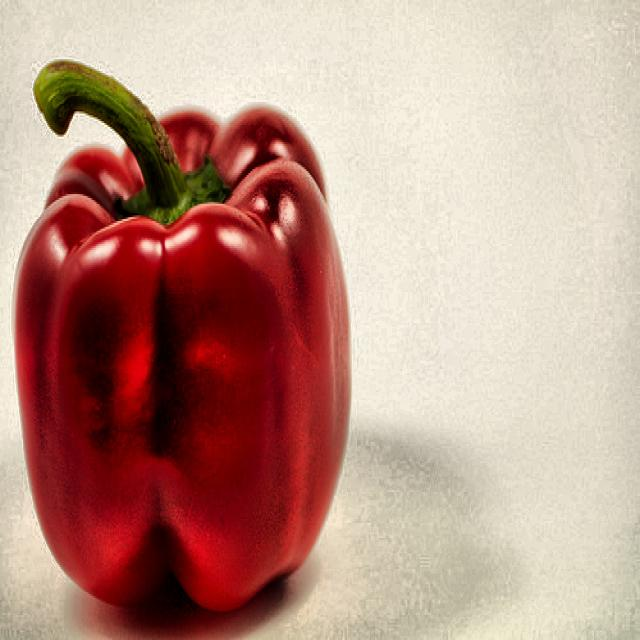capsicum: (18, 37, 360, 621)
